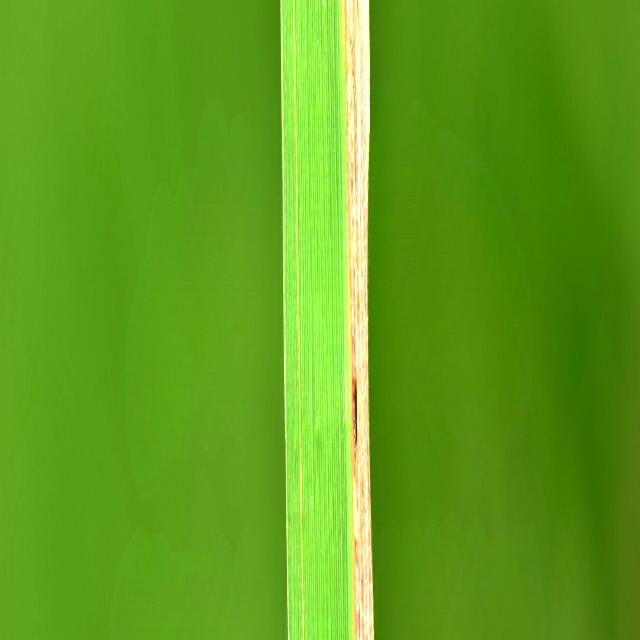BLB: (345, 0, 375, 640)
